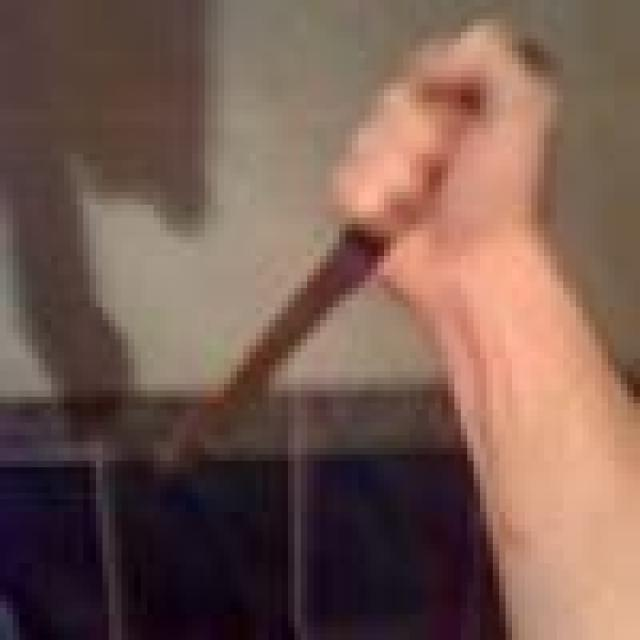knife: (182, 240, 381, 448)
